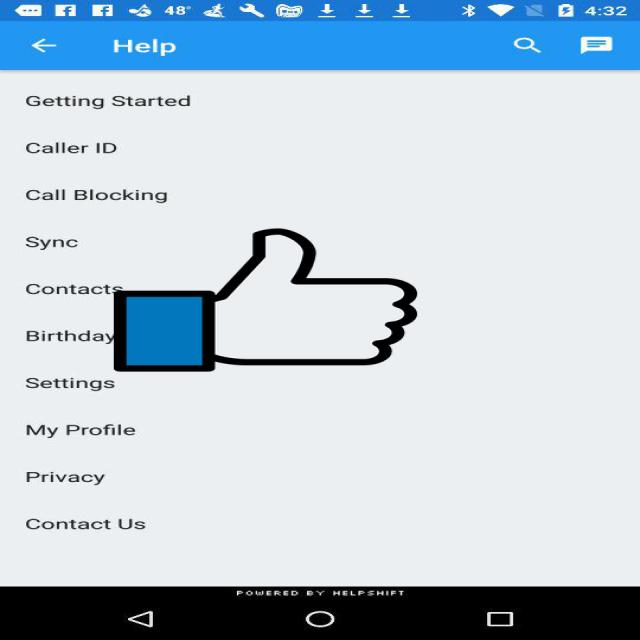privacy zuckering: (114, 225, 417, 375)
